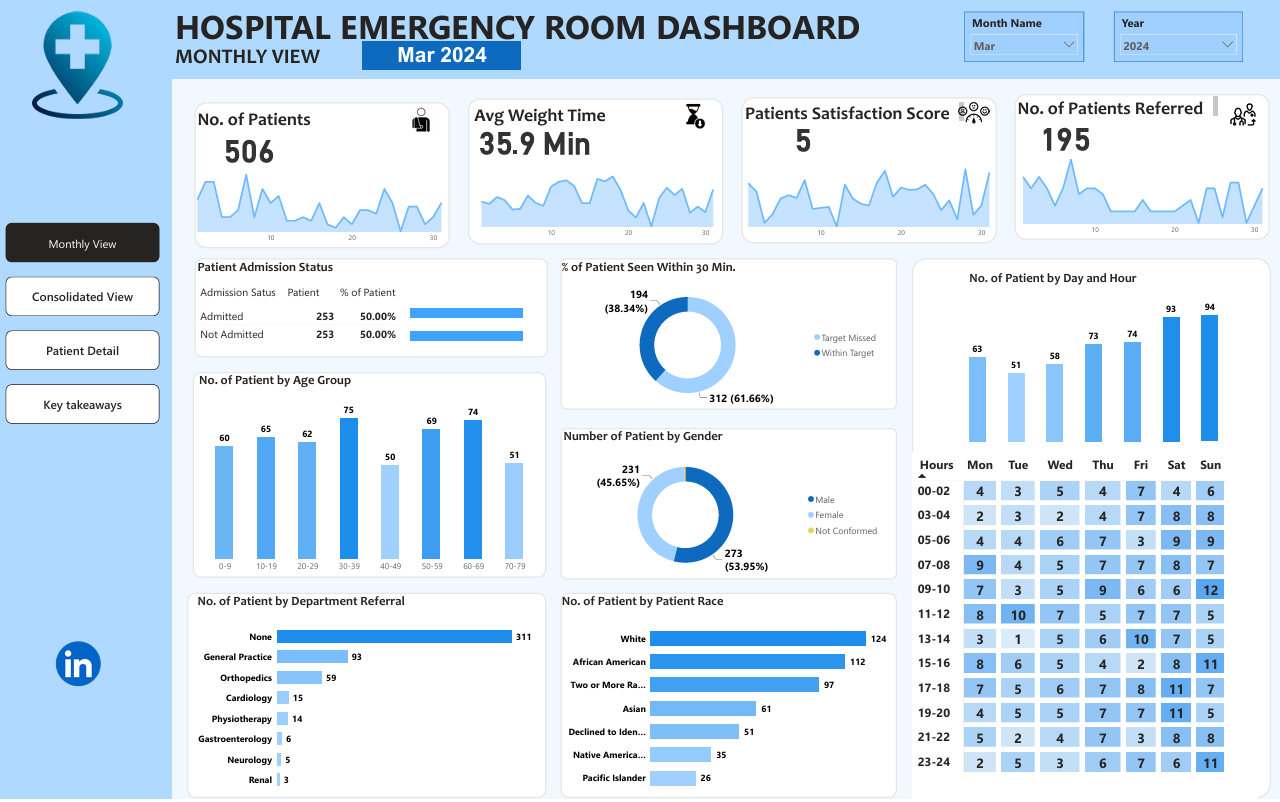

What the dashboard file says about the page in this screenshot:
{"tool":"powerbi","page":{"name":"Monthly View","canvas":[2300,1424],"ordinal":0},"visuals":[{"type":"shape","box":[0,0,310,1425.6],"z":0},{"type":"shape","box":[309.6,0,1990.4,140],"z":1000},{"type":"textbox","box":[310,0,1243.3,96.7],"z":2000},{"type":"textbox","box":[310,70,303.3,76.7],"z":3000},{"type":"shape","box":[350,181.7,455,260],"z":4000},{"type":"advanceCardE03760C5AB684758B56AA29F9E6C257B","fields":{"mainMeasure":["Hospital ER_Data.No. of Patient"]},"box":[340,230,213.3,80],"z":5000},{"type":"slicer","fields":{"Values":["Date Table.Year"]},"box":[1990,20,230,90],"z":6000},{"type":"slicer","fields":{"Values":["Date Table.Month Name"]},"box":[1723.3,20,213.3,90],"z":7000},{"type":"textbox","box":[350,186.7,246.7,50],"z":8000},{"type":"areaChart","fields":{"Category":["Date Table.Date.Variation.Date Hierarchy.Day"],"Y":["Hospital ER_Data.No. of Patient"]},"box":[340,296.7,465,145],"z":9000},{"type":"advanceCardE03760C5AB684758B56AA29F9E6C257B","fields":{"mainMeasure":["Min(Date Table.Year Month)"]},"box":[650,73.3,283.3,50],"z":10000},{"type":"shape","box":[837.8,175,455,260],"z":11000},{"type":"advanceCardE03760C5AB684758B56AA29F9E6C257B","fields":{"mainMeasure":["Hospital ER_Data.Avg Weight Time"]},"box":[836.7,210,240,90],"z":12000},{"type":"textbox","box":[836.7,180,263.3,50],"z":13000},{"type":"areaChart","fields":{"Category":["Date Table.Date.Variation.Date Hierarchy.Day"],"Y":["Avg(Hospital ER_Data.Patient Waittime)"]},"box":[846.7,300,443.3,133.3],"z":14000},{"type":"shape","box":[1325.6,173.3,455,260],"z":15000},{"type":"advanceCardE03760C5AB684758B56AA29F9E6C257B","fields":{"mainMeasure":["Hospital ER_Data.Satisfaction Score"]},"box":[1326.7,210,216.7,80],"z":16000},{"type":"textbox","box":[1326.7,176.7,400,43.3],"z":17000},{"type":"areaChart","fields":{"Category":["Date Table.Date.Variation.Date Hierarchy.Day"],"Y":["Hospital ER_Data.Satisfaction Score"]},"box":[1323.3,286.7,460,146.7],"z":18000},{"type":"shape","box":[1813.3,166.7,455,260],"z":19000},{"type":"advanceCardE03760C5AB684758B56AA29F9E6C257B","fields":{"mainMeasure":["Hospital ER_Data.No. of patients Referred"]},"box":[1796.7,208.3,213.3,80],"z":20000},{"type":"textbox","box":[1813.3,166.7,366.7,46.7],"z":21000},{"type":"areaChart","fields":{"Category":["Date Table.Date.Variation.Date Hierarchy.Day"],"Y":["Hospital ER_Data.No. of patients Referred"]},"box":[1813.3,270,456.7,156.7],"z":22000},{"type":"shape","box":[350,460,630,176.7],"z":23000},{"type":"shape","box":[346.7,663.3,630,366.7],"z":24000},{"type":"pivotTable","title":"Patient Admission Status","fields":{"Rows":["Hospital ER_Data.Admission Satus"],"Values":["Hospital ER_Data.No. of Patient1","Hospital ER_Data.No. of Patient"]},"box":[350,460,630,176.7],"z":25000},{"type":"barChart","fields":{"Category":["Hospital ER_Data.Admission Satus"],"Y":["Hospital ER_Data.No. of Patient"]},"box":[730,516.7,247.8,118.9],"z":26000},{"type":"shape","box":[1003.3,1056.7,600,366.7],"z":27000},{"type":"shape","box":[336.7,1056.7,640,366.7],"z":28000},{"type":"shape","box":[1003.3,460,600,270],"z":29000},{"type":"clusteredColumnChart","fields":{"Category":["Hospital ER_Data.Age Group"],"Y":["Hospital ER_Data.No. of Patient"]},"box":[353.3,663.3,620,366.7],"z":30000},{"type":"clusteredBarChart","fields":{"Category":["Hospital ER_Data.Department Referral"],"Y":["Hospital ER_Data.No. of Patient"]},"box":[350,1056.7,623.3,366.7],"z":31000},{"type":"donutChart","title":"% of Patient Seen Within 30 Min.","fields":{"Category":["Hospital ER_Data.Waittime Sataus"],"Y":["Hospital ER_Data.No. of Patient"]},"box":[1000,460,580,270],"z":32000},{"type":"shape","box":[1630,460,640,963.3],"z":33000},{"type":"shape","box":[1003.3,763.3,600,270],"z":34000},{"type":"donutChart","title":"Number of Patient by Gender","fields":{"Category":["Hospital ER_Data.Patient Gender"],"Y":["Hospital ER_Data.No. of Patient"]},"box":[1003.3,763.3,580,270],"z":35000},{"type":"clusteredBarChart","fields":{"Category":["Hospital ER_Data.Patient Race"],"Y":["Hospital ER_Data.No. of Patient"]},"box":[1000,1056.7,603.3,366.7],"z":36000},{"type":"pivotTable","fields":{"Columns":["Date Table.Day Name"],"Rows":["Hospital ER_Data.Waittime Interval"],"Values":["Hospital ER_Data.No. of Patient"]},"box":[1630,806.7,616.7,620],"z":37000},{"type":"columnChart","title":"No. of Patient by Day  and Hour","fields":{"Category":["Date Table.Day Name"],"Y":["Hospital ER_Data.No. of Patient"]},"box":[1726.7,480,456.7,313.3],"z":38000},{"type":"image","box":[11.7,20,258.3,191.7],"z":39000},{"type":"image","box":[716.2,190,75,46.2],"z":40000},{"type":"image","box":[1205,182.5,76.2,47.5],"z":41000},{"type":"image","box":[1711.7,168.3,56.7,63.3],"z":42000},{"type":"image","box":[2185,175,70,56.7],"z":43000},{"type":"pageNavigator","box":[13.3,396.7,273.3,360],"z":43001},{"type":"image","box":[66.7,1116.7,150,133.3],"z":43002}]}

Visuals, with their boxes in screenshot pixels (x1, y1, x2, y2), scaled from the page's 2300x1424 canvas onto the 1280x802 screenshot:
shape: pyautogui.locateOnScreen(0, 0, 173, 801)
shape: pyautogui.locateOnScreen(172, 0, 1279, 79)
textbox: pyautogui.locateOnScreen(173, 0, 864, 54)
textbox: pyautogui.locateOnScreen(173, 39, 341, 83)
shape: pyautogui.locateOnScreen(195, 102, 448, 249)
advanceCardE03760C5AB684758B56AA29F9E6C257B - Hospital ER_Data.No. of Patient: pyautogui.locateOnScreen(189, 130, 308, 175)
slicer - Date Table.Year: pyautogui.locateOnScreen(1107, 11, 1235, 62)
slicer - Date Table.Month Name: pyautogui.locateOnScreen(959, 11, 1078, 62)
textbox: pyautogui.locateOnScreen(195, 105, 332, 133)
areaChart - Date Table.Date.Variation.Date Hierarchy.Day x Hospital ER_Data.No. of Patient: pyautogui.locateOnScreen(189, 167, 448, 249)
advanceCardE03760C5AB684758B56AA29F9E6C257B - Min(Date Table.Year Month): pyautogui.locateOnScreen(362, 41, 519, 69)
shape: pyautogui.locateOnScreen(466, 99, 719, 245)
advanceCardE03760C5AB684758B56AA29F9E6C257B - Hospital ER_Data.Avg Weight Time: pyautogui.locateOnScreen(466, 118, 599, 169)
textbox: pyautogui.locateOnScreen(466, 101, 612, 130)
areaChart - Date Table.Date.Variation.Date Hierarchy.Day x Avg(Hospital ER_Data.Patient Waittime): pyautogui.locateOnScreen(471, 169, 718, 244)
shape: pyautogui.locateOnScreen(738, 98, 991, 244)
advanceCardE03760C5AB684758B56AA29F9E6C257B - Hospital ER_Data.Satisfaction Score: pyautogui.locateOnScreen(738, 118, 859, 163)
textbox: pyautogui.locateOnScreen(738, 100, 961, 124)
areaChart - Date Table.Date.Variation.Date Hierarchy.Day x Hospital ER_Data.Satisfaction Score: pyautogui.locateOnScreen(736, 161, 992, 244)
shape: pyautogui.locateOnScreen(1009, 94, 1262, 240)
advanceCardE03760C5AB684758B56AA29F9E6C257B - Hospital ER_Data.No. of patients Referred: pyautogui.locateOnScreen(1000, 117, 1119, 162)
textbox: pyautogui.locateOnScreen(1009, 94, 1213, 120)
areaChart - Date Table.Date.Variation.Date Hierarchy.Day x Hospital ER_Data.No. of patients Referred: pyautogui.locateOnScreen(1009, 152, 1263, 240)
shape: pyautogui.locateOnScreen(195, 259, 545, 359)
shape: pyautogui.locateOnScreen(193, 374, 544, 580)
"Patient Admission Status" pivotTable: pyautogui.locateOnScreen(195, 259, 545, 359)
barChart - Hospital ER_Data.Admission Satus x Hospital ER_Data.No. of Patient: pyautogui.locateOnScreen(406, 291, 544, 358)
shape: pyautogui.locateOnScreen(558, 595, 892, 801)
shape: pyautogui.locateOnScreen(187, 595, 544, 801)
shape: pyautogui.locateOnScreen(558, 259, 892, 411)
clusteredColumnChart - Hospital ER_Data.Age Group x Hospital ER_Data.No. of Patient: pyautogui.locateOnScreen(197, 374, 542, 580)
clusteredBarChart - Hospital ER_Data.Department Referral x Hospital ER_Data.No. of Patient: pyautogui.locateOnScreen(195, 595, 542, 801)
"% of Patient Seen Within 30 Min." donutChart: pyautogui.locateOnScreen(557, 259, 879, 411)
shape: pyautogui.locateOnScreen(907, 259, 1263, 801)
shape: pyautogui.locateOnScreen(558, 430, 892, 582)
"Number of Patient by Gender" donutChart: pyautogui.locateOnScreen(558, 430, 881, 582)
clusteredBarChart - Hospital ER_Data.Patient Race x Hospital ER_Data.No. of Patient: pyautogui.locateOnScreen(557, 595, 892, 801)
pivotTable - Date Table.Day Name x Hospital ER_Data.Waittime Interval: pyautogui.locateOnScreen(907, 454, 1250, 801)
"No. of Patient by Day  and Hour" columnChart: pyautogui.locateOnScreen(961, 270, 1215, 447)
image: pyautogui.locateOnScreen(7, 11, 150, 119)
image: pyautogui.locateOnScreen(399, 107, 440, 133)
image: pyautogui.locateOnScreen(671, 103, 713, 130)
image: pyautogui.locateOnScreen(953, 95, 984, 130)
image: pyautogui.locateOnScreen(1216, 99, 1255, 130)
pageNavigator: pyautogui.locateOnScreen(7, 223, 159, 426)
image: pyautogui.locateOnScreen(37, 629, 121, 704)
